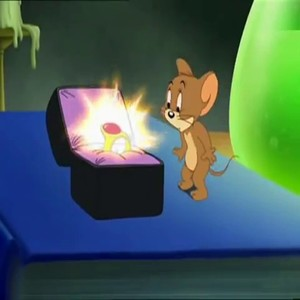Jerry: (160, 58, 219, 199)
